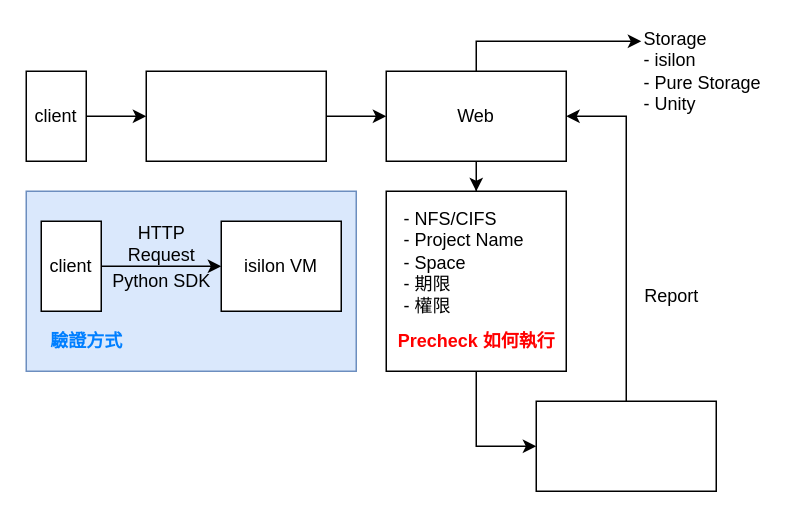
This 803x518 diagram has some shape labels left out. Here are the shapes that lost their labels. From the top down, the centre of each, then its label:
At point (235, 115): "入口網站".
At point (625, 445): "SQL 要存甚麼資訊".
